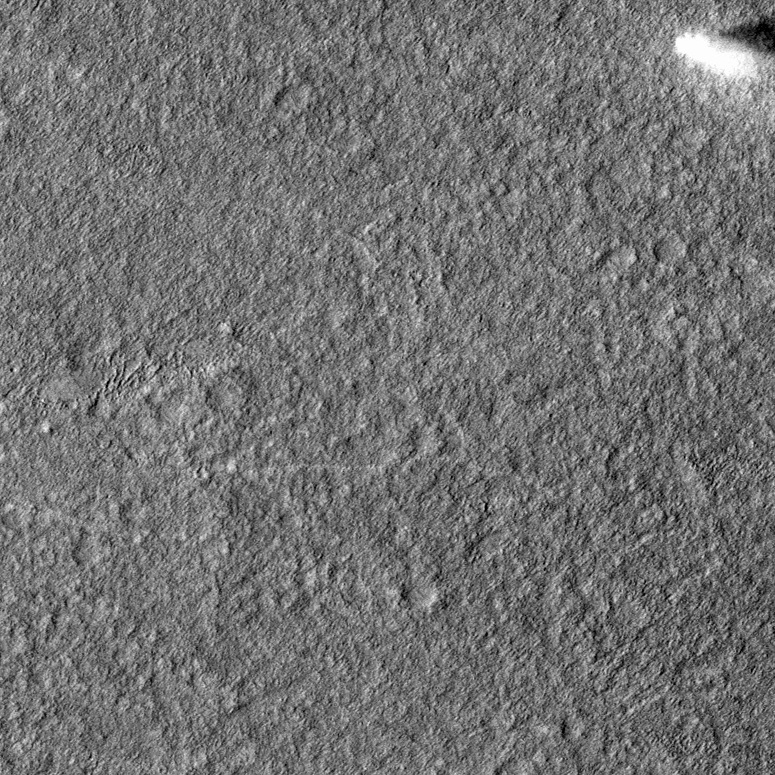dust_devil: (669, 8, 775, 83)
